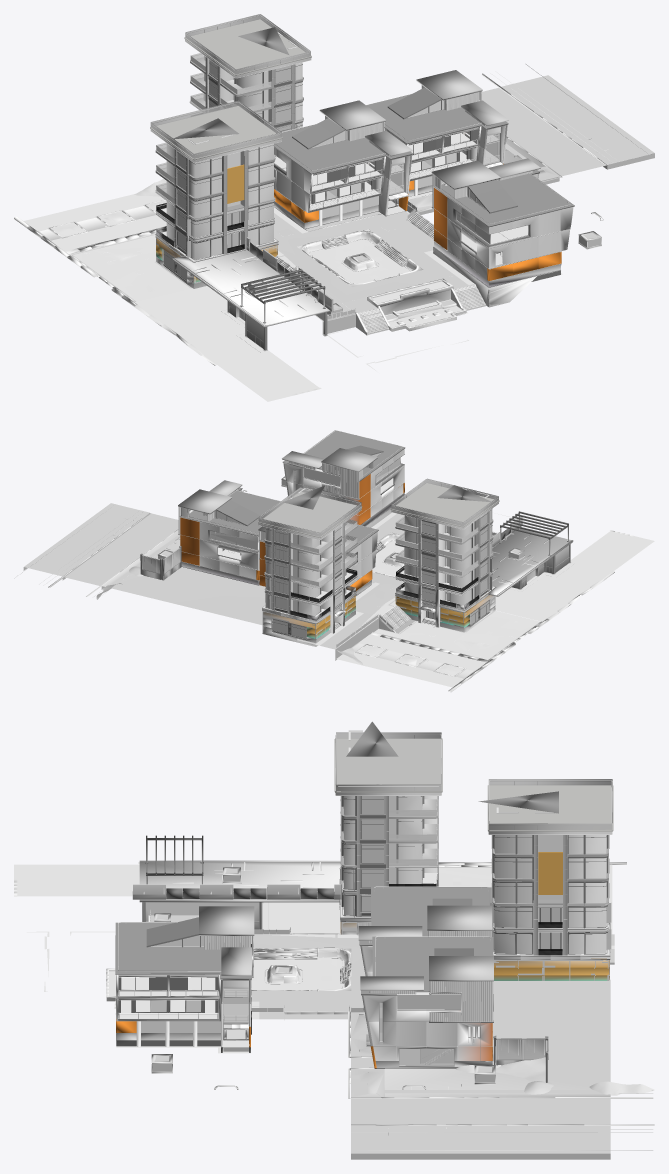
Rendered from cell_80_58.fbx.
3 views of the same model, one above another, from view 1: azimuth 30°, elevation 25°; view 2: azimuth 150°, elevation 25°; view 3: azimuth 270°, elevation 25° (orthographic). The views are drawn at different scales.
Parts seen in each view (by area): view 1: SM_H_Building_FutureTech_Dormitory_02_ExterWall_01.mo, SM_H_Building_FutureTech_Dormitory_01.mo.003, SM_I_RoadFacility_Ground_D_10.mo, SM_H_Building_FutureTech_Dormitory_02_ExterWall_01F.mo, SM_I_RoadFacility_Ground_D_01.mo, SM_I_RoadFacility_Ground_D_06.mo, SM_I_RoadFacility_Ground_D_05.mo, SM_H_Building_FutureTech_Dormitory_01B.mo.003, SM_H_Building_FutureTech_Dormitory_01.mo.004, SM_H_Building_FutureTech_Dormitory_03_ExterWall_01B.mo, SM_H_Building_FutureTech_Dormitory_02_ExterWall_01.mo.001, SM_I_RoadFacility_Ground_D_14.mo (+15 smaller); view 2: SM_I_RoadFacility_Ground_D_10.mo, SM_H_Building_FutureTech_Dormitory_01.mo.003, SM_H_Building_FutureTech_Dormitory_01.mo.004, SM_I_RoadFacility_Ground_D_01.mo, SM_I_RoadFacility_Ground_D_06.mo, SM_H_Building_FutureTech_Dormitory_02_ExterWall_01.mo.001, SM_H_Building_FutureTech_Dormitory_01B.mo.003, SM_H_Building_FutureTech_Dormitory_02_ExterWall_01.mo, SM_H_Building_FutureTech_Dormitory_03_ExterWall_01B.mo, SM_H_Building_FutureTech_Dormitory_01B.mo.004, SM_I_RoadFacility_Ground_D_05.mo, SM_H_Building_FutureTech_Dormitory_02_ExterWall_01F.mo (+13 smaller); view 3: SM_I_RoadFacility_Ground_D_10.mo, SM_H_Building_FutureTech_Dormitory_01.mo.004, SM_H_Building_FutureTech_Dormitory_02_ExterWall_01.mo, SM_H_Building_FutureTech_Dormitory_01.mo.003, SM_H_Building_FutureTech_Dormitory_02_ExterWall_01.mo.001, SM_H_Building_FutureTech_Dormitory_01B.mo.004, SM_H_Building_FutureTech_Dormitory_03_ExterWall_01B.mo, SM_I_RoadFacility_Ground_D_06.mo, SM_I_RoadFacility_Ground_D_05.mo, SM_H_Building_FutureTech_Dormitory_01B.mo.003, SM_H_Building_FutureTech_Dormitory_02_ExterWall_01F.mo, SM_H_Building_FutureTech_Dormitory_02_Ornament_01.mo.003 (+18 smaller).
Part boxes in pixels (box(x1,y1,x2,y2)): SM_H_Building_FutureTech_Dormitory_02_ExterWall_01.mo: box(433, 169, 574, 287); SM_H_Building_FutureTech_Dormitory_01.mo.003: box(150, 100, 282, 288); SM_I_RoadFacility_Ground_D_10.mo: box(407, 64, 654, 214); SM_H_Building_FutureTech_Dormitory_02_ExterWall_01F.mo: box(274, 118, 412, 230); SM_I_RoadFacility_Ground_D_01.mo: box(14, 194, 190, 306); SM_I_RoadFacility_Ground_D_06.mo: box(134, 255, 321, 401); SM_I_RoadFacility_Ground_D_05.mo: box(274, 205, 474, 334); SM_H_Building_FutureTech_Dormitory_01B.mo.003: box(150, 101, 281, 259); SM_H_Building_FutureTech_Dormitory_01.mo.004: box(184, 14, 311, 168); SM_H_Building_FutureTech_Dormitory_03_ExterWall_01B.mo: box(172, 250, 330, 350); SM_H_Building_FutureTech_Dormitory_02_ExterWall_01.mo.001: box(366, 87, 508, 196); SM_I_RoadFacility_Ground_D_14.mo: box(342, 275, 485, 335); SM_I_RoadFacility_Ground_D_10.mo: box(14, 503, 265, 629); SM_H_Building_FutureTech_Dormitory_01.mo.003: box(390, 478, 499, 632); SM_H_Building_FutureTech_Dormitory_01.mo.004: box(258, 487, 362, 646); SM_I_RoadFacility_Ground_D_01.mo: box(336, 604, 549, 692); SM_I_RoadFacility_Ground_D_06.mo: box(495, 530, 654, 621); SM_H_Building_FutureTech_Dormitory_02_ExterWall_01.mo.001: box(179, 487, 280, 585); SM_H_Building_FutureTech_Dormitory_01B.mo.003: box(391, 479, 498, 609); SM_H_Building_FutureTech_Dormitory_02_ExterWall_01.mo: box(282, 430, 405, 526); SM_H_Building_FutureTech_Dormitory_03_ExterWall_01B.mo: box(488, 511, 573, 596); SM_H_Building_FutureTech_Dormitory_01B.mo.004: box(258, 487, 361, 620); SM_I_RoadFacility_Ground_D_05.mo: box(296, 512, 493, 660); SM_H_Building_FutureTech_Dormitory_02_ExterWall_01F.mo: box(259, 524, 378, 595); SM_I_RoadFacility_Ground_D_10.mo: box(348, 979, 654, 1159); SM_H_Building_FutureTech_Dormitory_01.mo.004: box(487, 779, 613, 980); SM_H_Building_FutureTech_Dormitory_02_ExterWall_01.mo: box(115, 917, 251, 1053); SM_H_Building_FutureTech_Dormitory_01.mo.003: box(334, 732, 442, 934); SM_H_Building_FutureTech_Dormitory_02_ExterWall_01.mo.001: box(361, 936, 493, 1068); SM_H_Building_FutureTech_Dormitory_01B.mo.004: box(488, 779, 612, 955); SM_H_Building_FutureTech_Dormitory_03_ExterWall_01B.mo: box(139, 835, 340, 929); SM_I_RoadFacility_Ground_D_06.mo: box(14, 862, 340, 934); SM_I_RoadFacility_Ground_D_05.mo: box(148, 915, 614, 1020); SM_H_Building_FutureTech_Dormitory_01B.mo.003: box(336, 732, 441, 915); SM_H_Building_FutureTech_Dormitory_02_ExterWall_01F.mo: box(359, 886, 491, 976); SM_H_Building_FutureTech_Dormitory_02_Ornament_01.mo.003: box(429, 956, 493, 1022).
Bounding box in the file's own units: 113 × 33.05 × 97.74.
